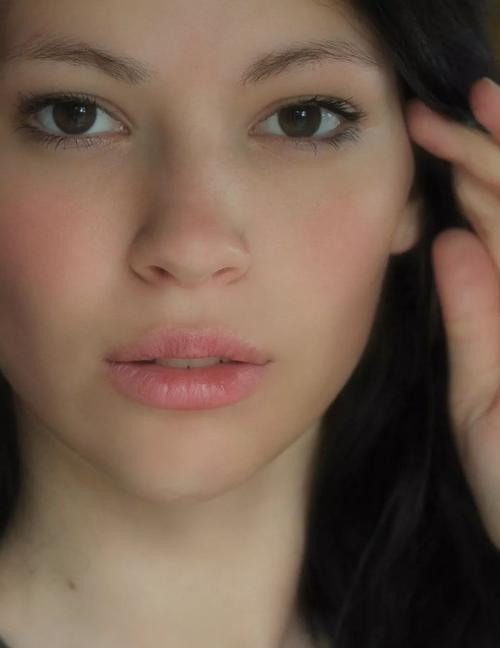no_mask: (5, 6, 414, 508)
